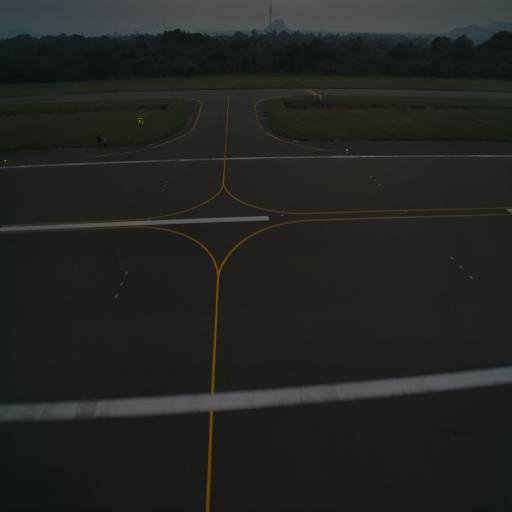off: (114, 292, 119, 301), (120, 280, 124, 288), (124, 269, 128, 276), (162, 188, 165, 192), (165, 180, 168, 184), (164, 184, 166, 188), (370, 174, 372, 178), (374, 178, 376, 182), (378, 182, 380, 186)
on: (2, 156, 8, 168), (344, 147, 350, 154)
